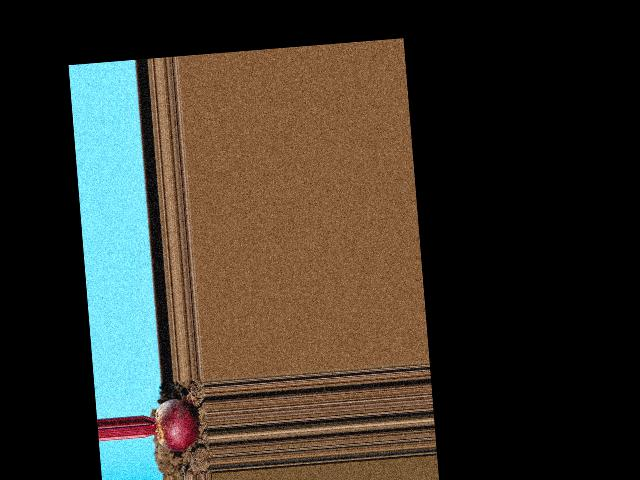beet: (142, 396, 200, 453)
